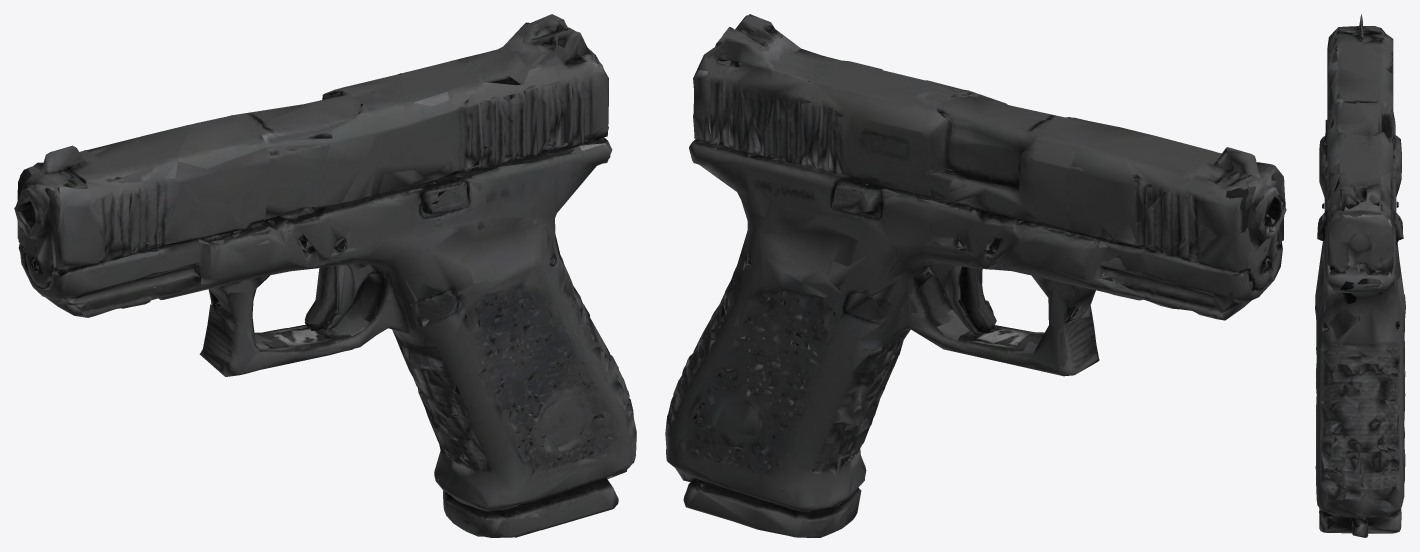
File: glock-lod.glb
3 renders of one model, left to right at view 1: azimuth 30°, elevation 25°; view 2: azimuth 150°, elevation 25°; view 3: azimuth 270°, elevation 25°, orthographic. The views are drawn at different scales.
Bounding box in the file's own units: 1.9 × 1.45 × 0.3525.
Materials: 1 (1 with a texture image).
